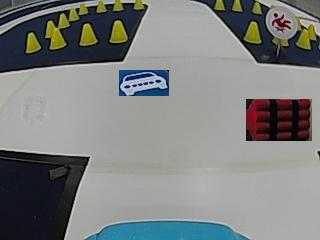cone: (243, 21, 261, 44), (109, 20, 127, 43), (79, 23, 96, 46), (24, 31, 40, 53), (49, 28, 65, 49), (296, 28, 311, 49), (57, 12, 69, 29), (45, 19, 55, 37), (68, 7, 79, 21), (251, 1, 262, 15), (113, 0, 124, 12), (96, 0, 106, 13), (78, 2, 88, 15), (232, 0, 242, 12), (214, 0, 224, 11), (133, 0, 144, 10)
tumble: (269, 7, 296, 36)
